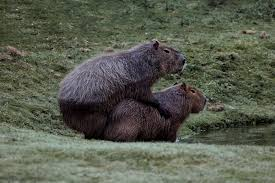capivara: (61, 38, 187, 131), (104, 82, 207, 143)
